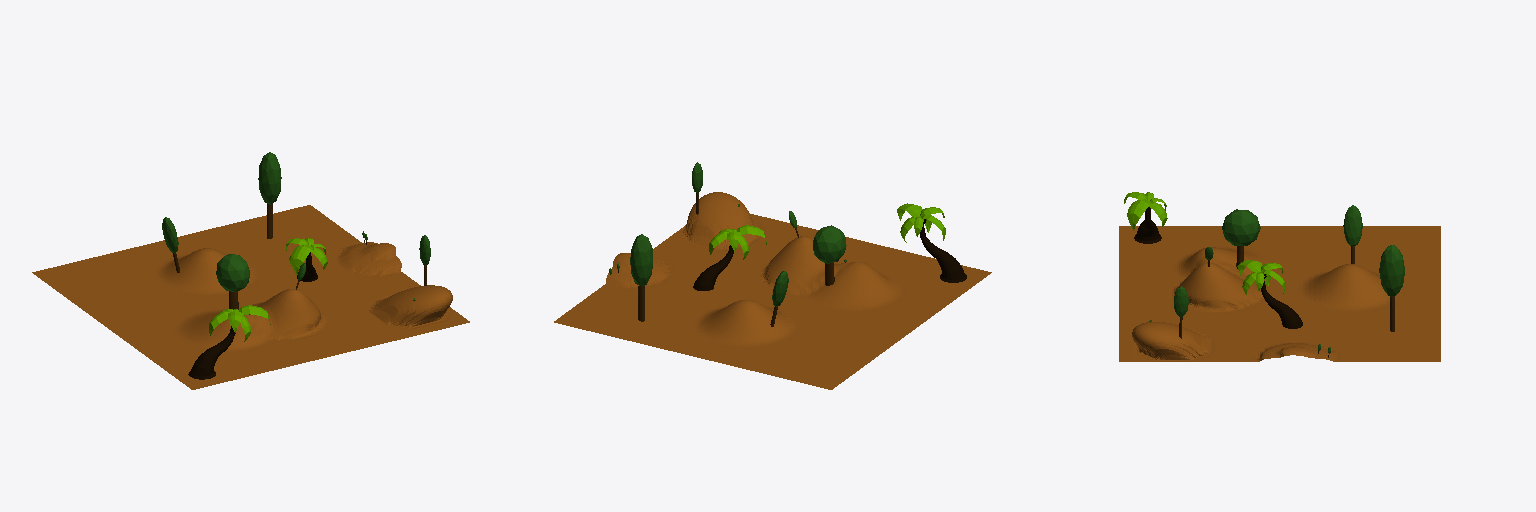
The model's file is level0.obj.
3 renders of one model, left to right at view 1: azimuth 30°, elevation 25°; view 2: azimuth 150°, elevation 25°; view 3: azimuth 270°, elevation 25°, orthographic.
Visible parts, largest first — view 1: Main_Land_Plane.012, Tree_Cylinder, Palm_Tree_Plane.005, Palm_Tree.001_Plane.004; view 2: Main_Land_Plane.012, Tree_Cylinder, Palm_Tree_Plane.005, Palm_Tree.001_Plane.004; view 3: Main_Land_Plane.012, Tree_Cylinder, Palm_Tree.001_Plane.004, Palm_Tree_Plane.005.
Boxes of the visible parts, x1=… form: Main_Land_Plane.012: x1=32, y1=205, x2=469, y2=389; Tree_Cylinder: x1=162, y1=152, x2=430, y2=314; Palm_Tree_Plane.005: x1=188, y1=305, x2=270, y2=379; Palm_Tree.001_Plane.004: x1=286, y1=238, x2=327, y2=281; Main_Land_Plane.012: x1=554, y1=192, x2=991, y2=389; Tree_Cylinder: x1=609, y1=162, x2=846, y2=326; Palm_Tree_Plane.005: x1=897, y1=203, x2=966, y2=282; Palm_Tree.001_Plane.004: x1=693, y1=225, x2=766, y2=290; Main_Land_Plane.012: x1=1119, y1=226, x2=1440, y2=361; Tree_Cylinder: x1=1149, y1=205, x2=1404, y2=357; Palm_Tree.001_Plane.004: x1=1237, y1=260, x2=1302, y2=328; Palm_Tree_Plane.005: x1=1124, y1=192, x2=1167, y2=243.
Size of the model in its own units: 31.5 by 9.59 by 30.47.